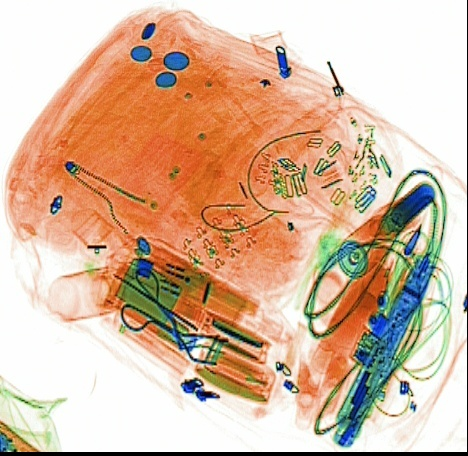pressure: (335, 210, 403, 280)
